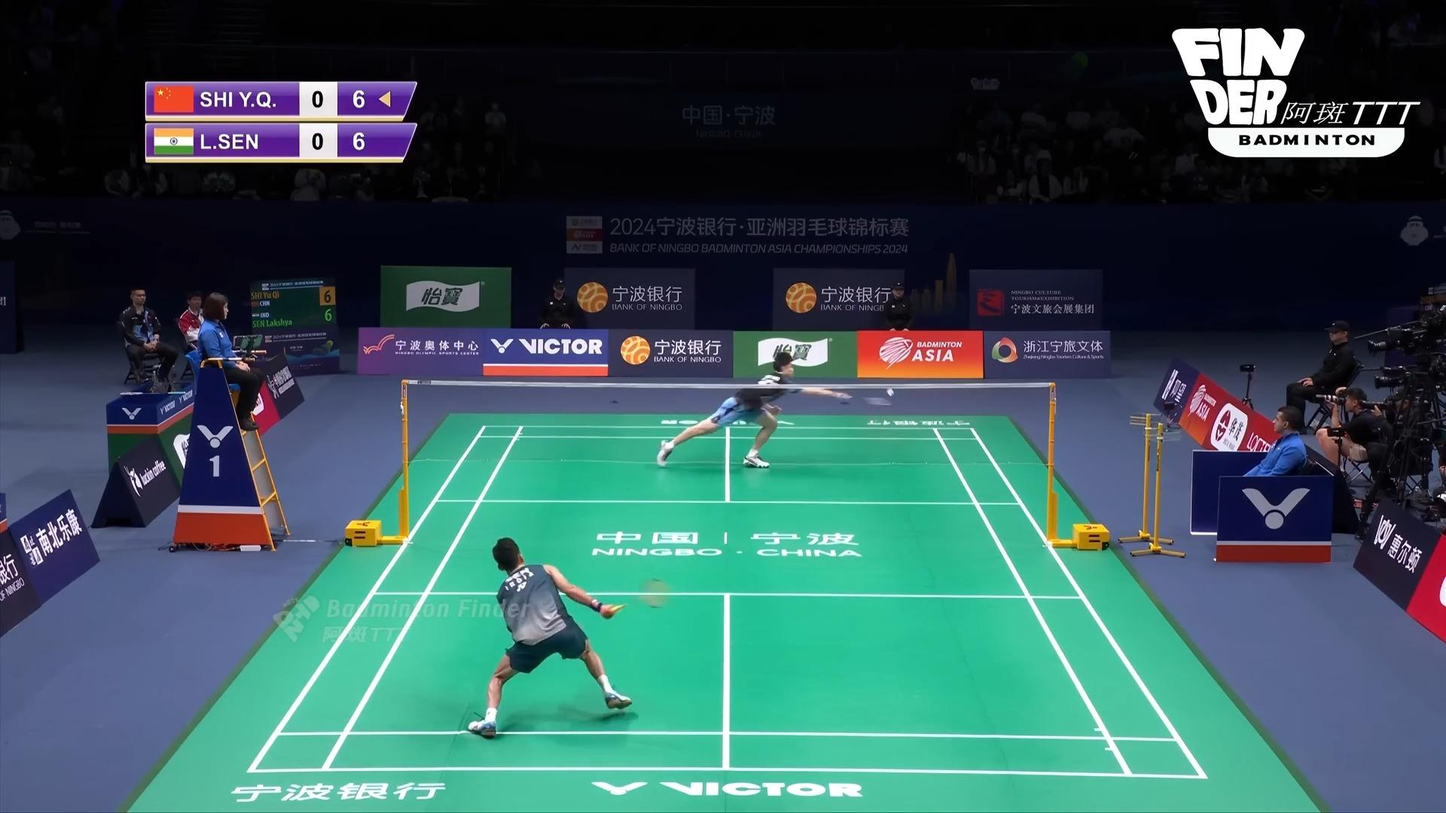player: (469, 538, 631, 739), (656, 353, 852, 468)
shuttlecock: (887, 387, 894, 397)
